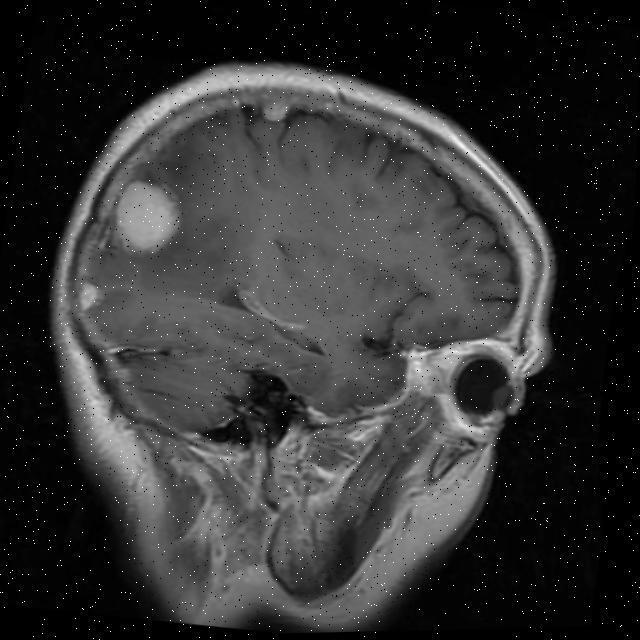Meningioma: (106, 173, 189, 263), (70, 276, 105, 315), (253, 92, 294, 125)
